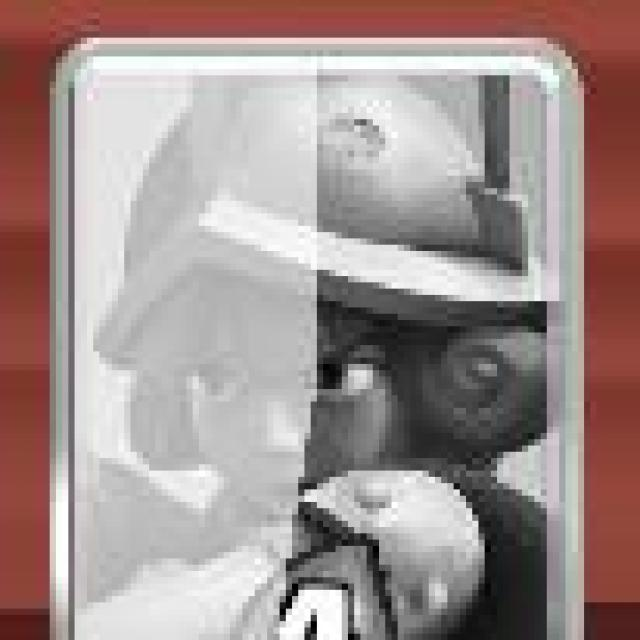Musketeer: (61, 41, 589, 640)
